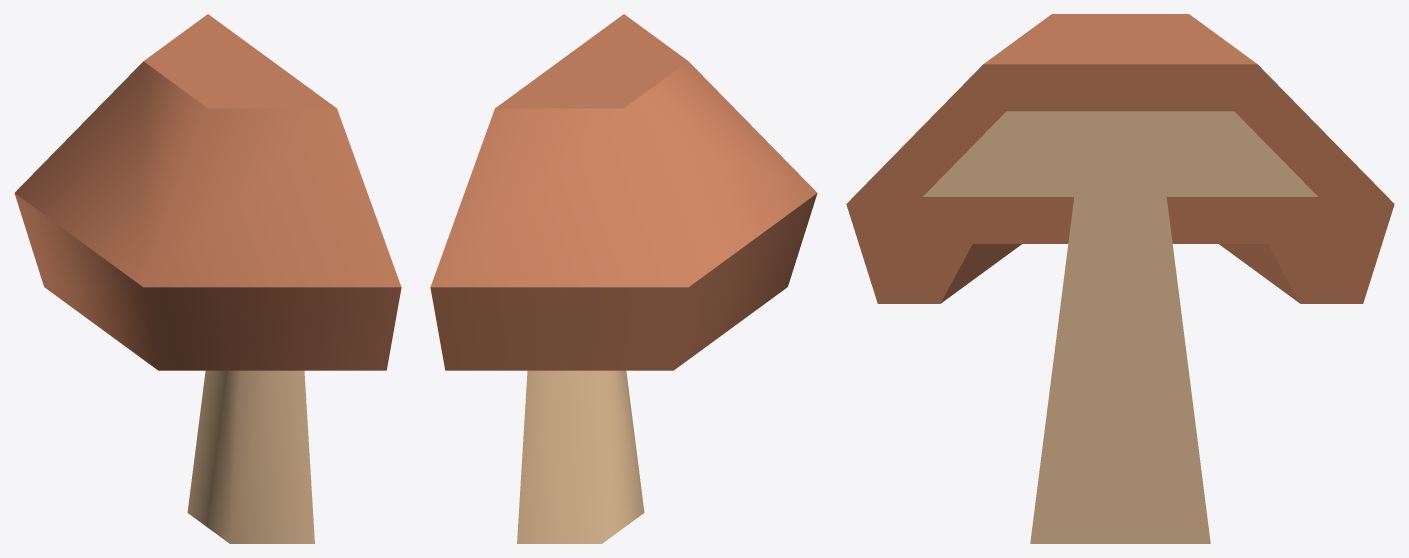
The model's file is mushroom-half.glb.
3 views of the same model, side by side, from view 1: azimuth 30°, elevation 25°; view 2: azimuth 150°, elevation 25°; view 3: azimuth 270°, elevation 25° (orthographic). The views are drawn at different scales.
Visible parts, largest first — view 1: mushroomHalf; view 2: mushroomHalf; view 3: mushroomHalf.
Part boxes in pixels (x1=…): mushroomHalf: x1=14, y1=14, x2=401, y2=543; mushroomHalf: x1=430, y1=14, x2=817, y2=543; mushroomHalf: x1=846, y1=14, x2=1394, y2=543.
Size of the model in its own units: 0.0624 by 0.1392 by 0.1442.
